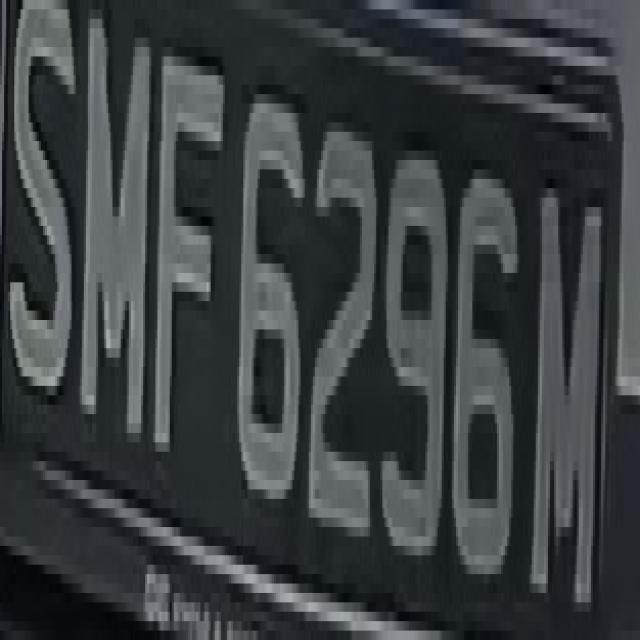2: (307, 94, 376, 574)
6: (446, 123, 517, 622), (233, 76, 305, 508)
9: (374, 103, 452, 593)
F: (155, 38, 225, 490)
M: (530, 170, 609, 630), (82, 28, 151, 471)
S: (4, 38, 80, 414)
